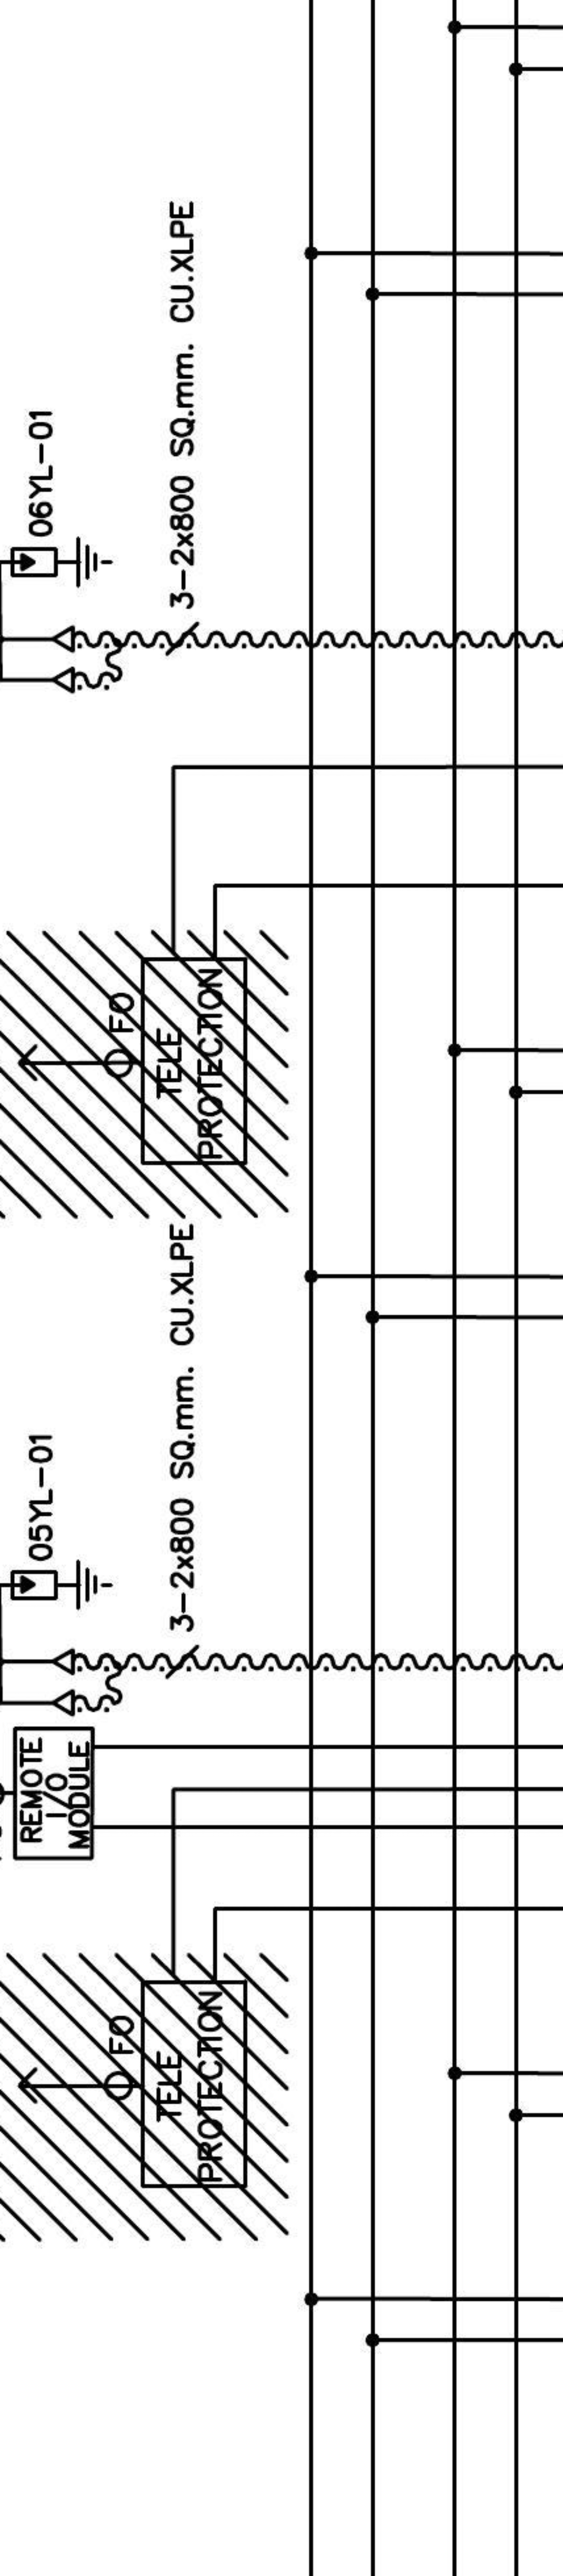115_la: (8, 1559, 115, 1612), (8, 536, 114, 588)
remote_io_module: (12, 1723, 97, 1863)
tele_protection: (137, 954, 252, 1168), (138, 1976, 252, 2192)
